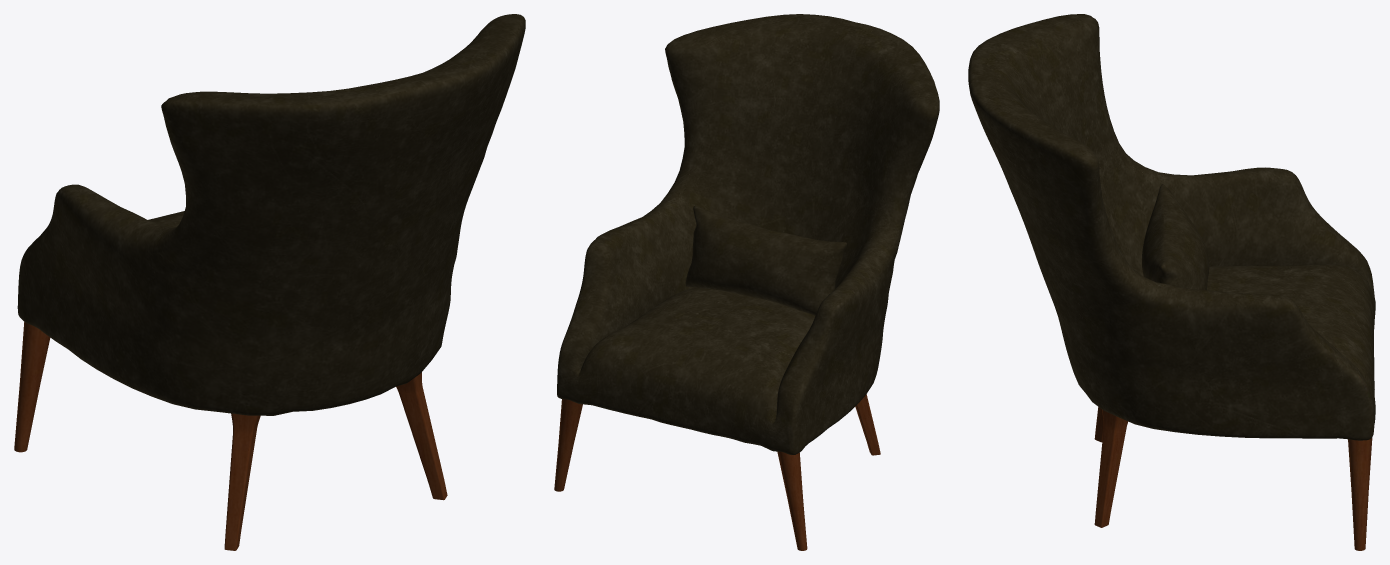
The model's file is abo_B075X33T21.glb.
The picture shows the model from 3 angles, left to right: view 1: azimuth 30°, elevation 25°; view 2: azimuth 150°, elevation 25°; view 3: azimuth 270°, elevation 25°; orthographic projection. The views are drawn at different scales.
Visible parts, largest first — view 1: RootNode; view 2: RootNode; view 3: RootNode.
Boxes of the visible parts, x1,y1,x2,y2 form: RootNode: [14, 14, 525, 550]; RootNode: [554, 14, 939, 550]; RootNode: [968, 14, 1375, 550].
Size of the model in its own units: 0.8185 by 1.07 by 0.9541.
1 material, 1 textured.
